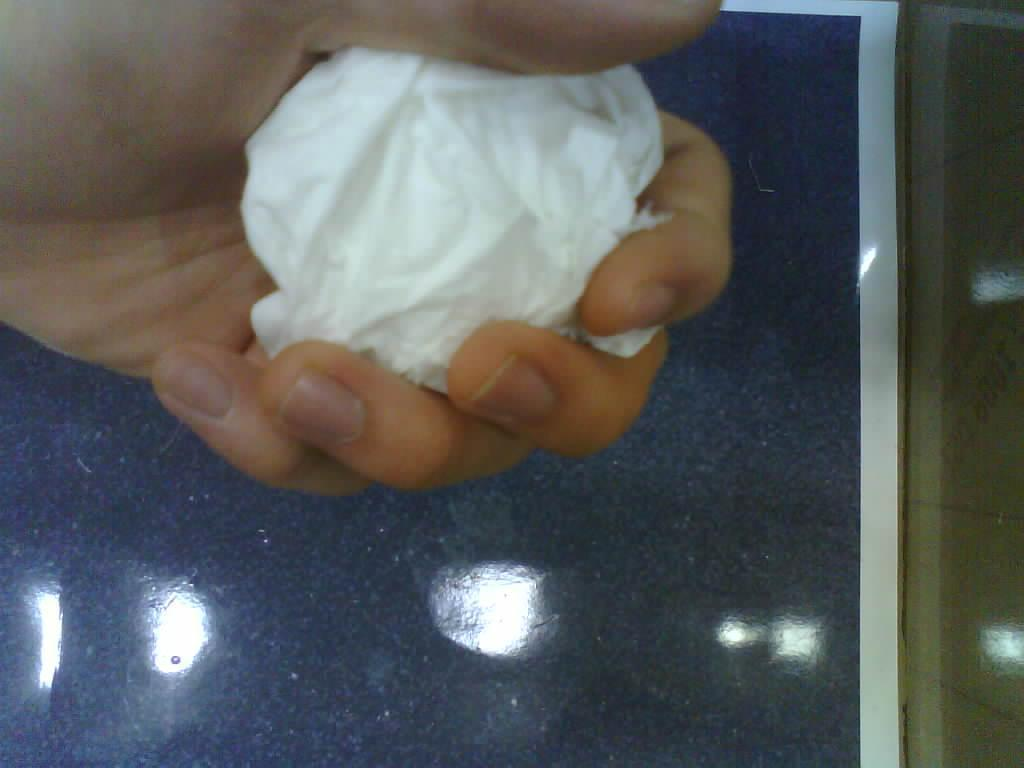paper: (242, 18, 664, 410)
